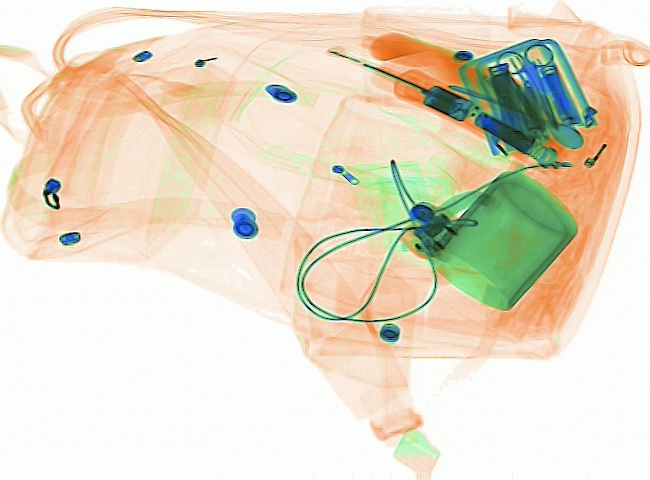scissors: (494, 42, 564, 133)
